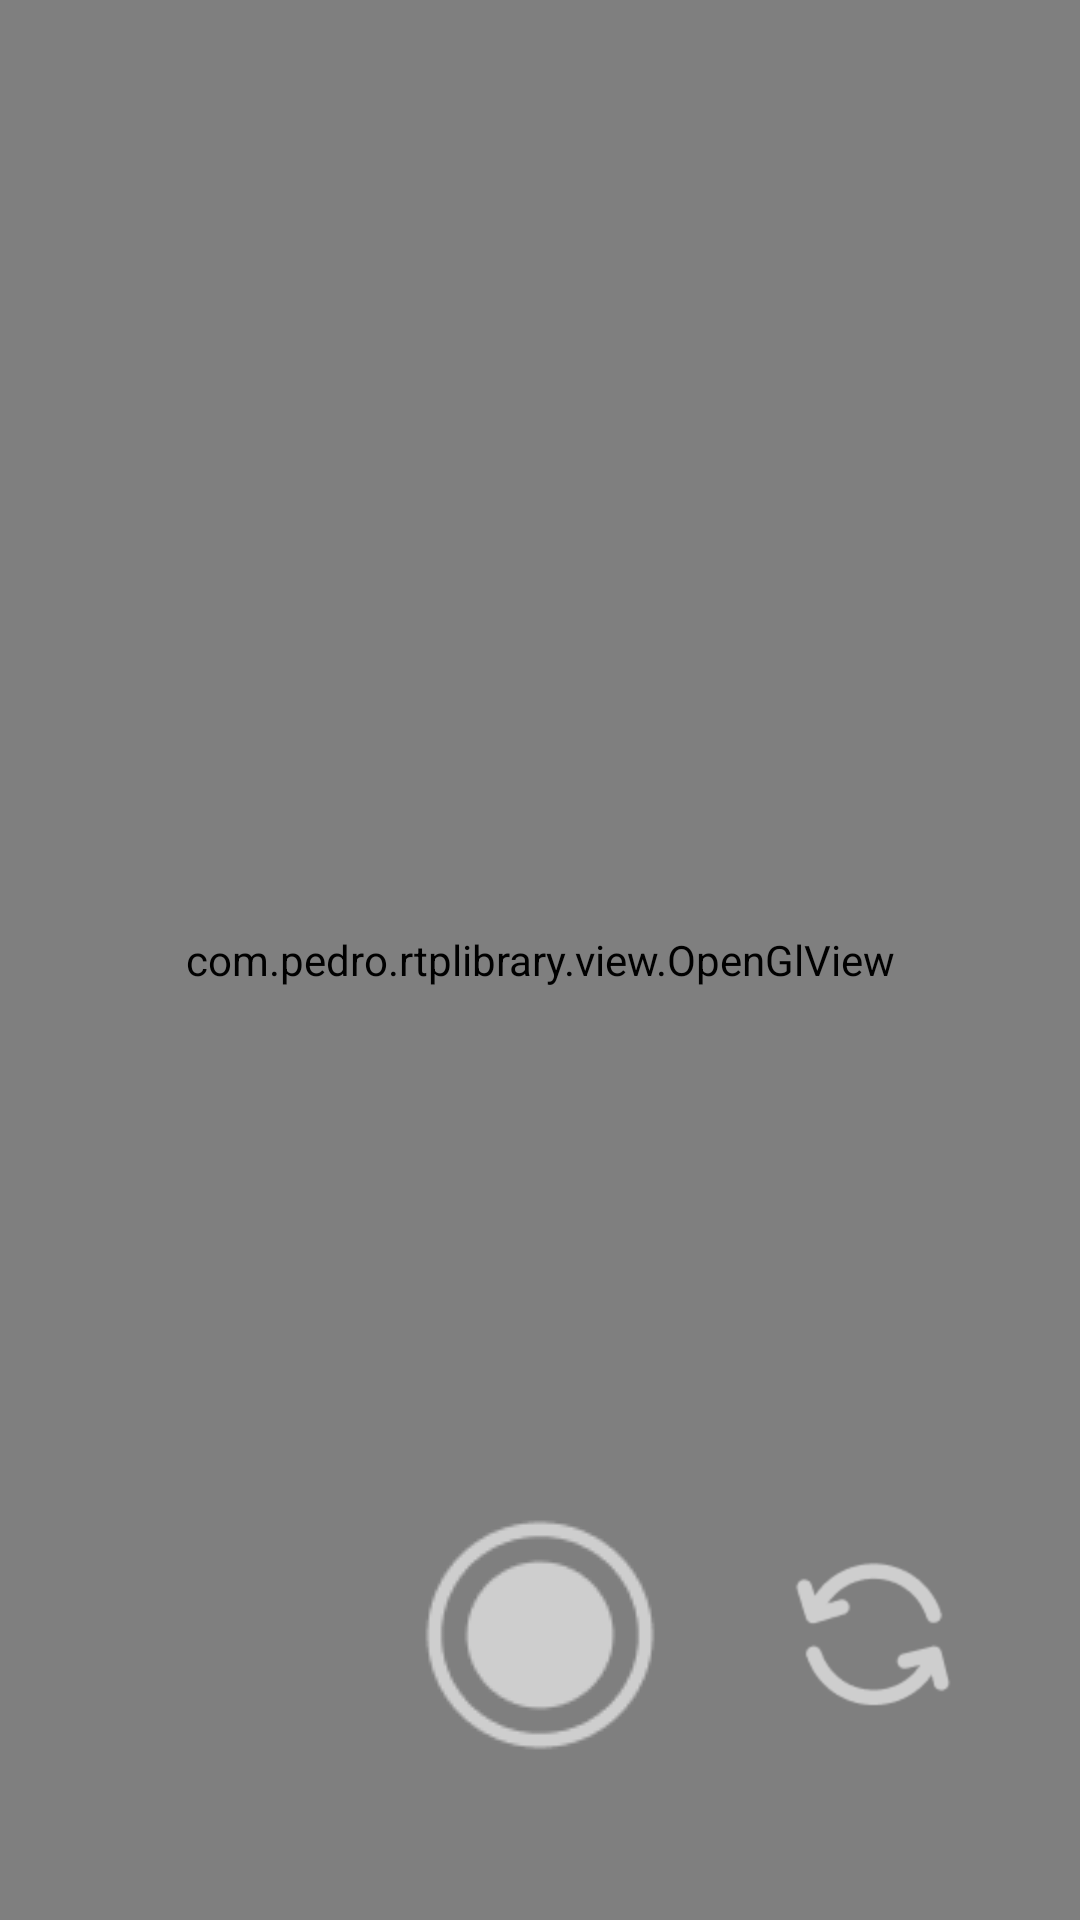

Icons on this 1080 x 1920 Android screen, each with its box as (x1, y1, x2, y2):
reverse: (796, 1563, 949, 1705)
start recording: (426, 1521, 654, 1749)
